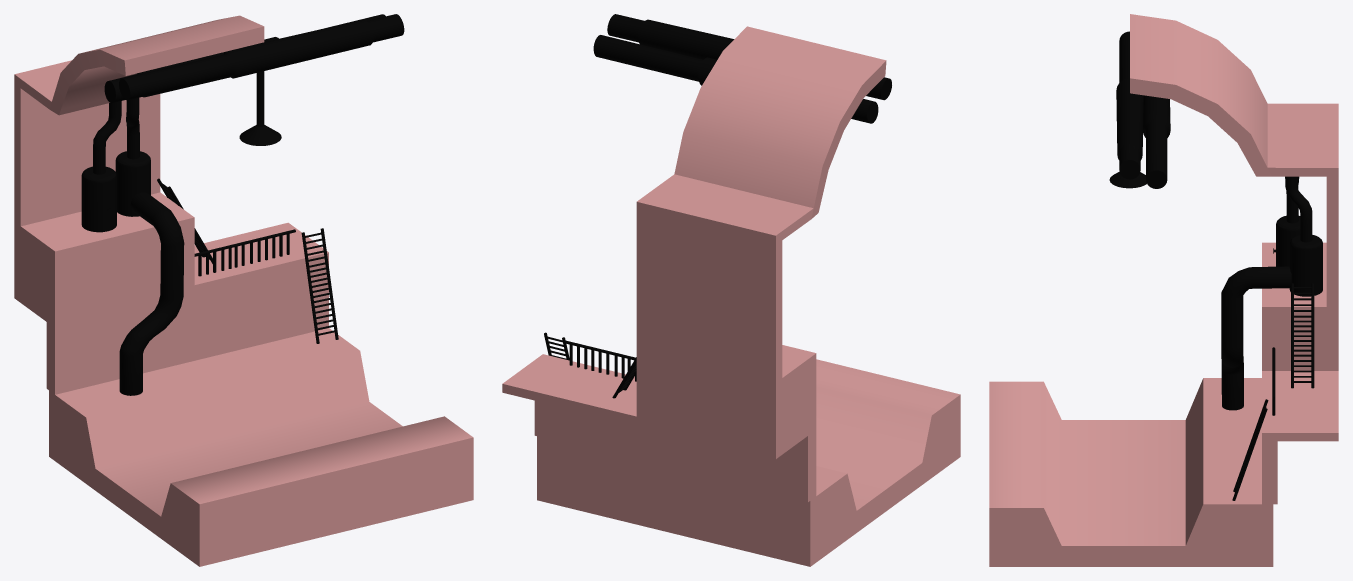
The model's file is sewer_room1.fbx.
3 renders of one model, left to right at view 1: azimuth 30°, elevation 25°; view 2: azimuth 150°, elevation 25°; view 3: azimuth 270°, elevation 25°, orthographic. The views are drawn at different scales.
Parts seen in each view (by area): view 1: room1_walls, room1_metal; view 2: room1_walls, room1_metal; view 3: room1_walls, room1_metal.
Boxes of the visible parts, left/top/right/bottom form: room1_walls: left=14, top=15, right=473, bottom=566; room1_metal: left=81, top=14, right=404, bottom=395; room1_walls: left=502, top=26, right=960, bottom=566; room1_metal: left=544, top=14, right=891, bottom=398; room1_walls: left=989, top=14, right=1338, bottom=566; room1_metal: left=1109, top=31, right=1322, bottom=500.
Bounding box in the file's own units: 2.01 × 3.15 × 2.34.
